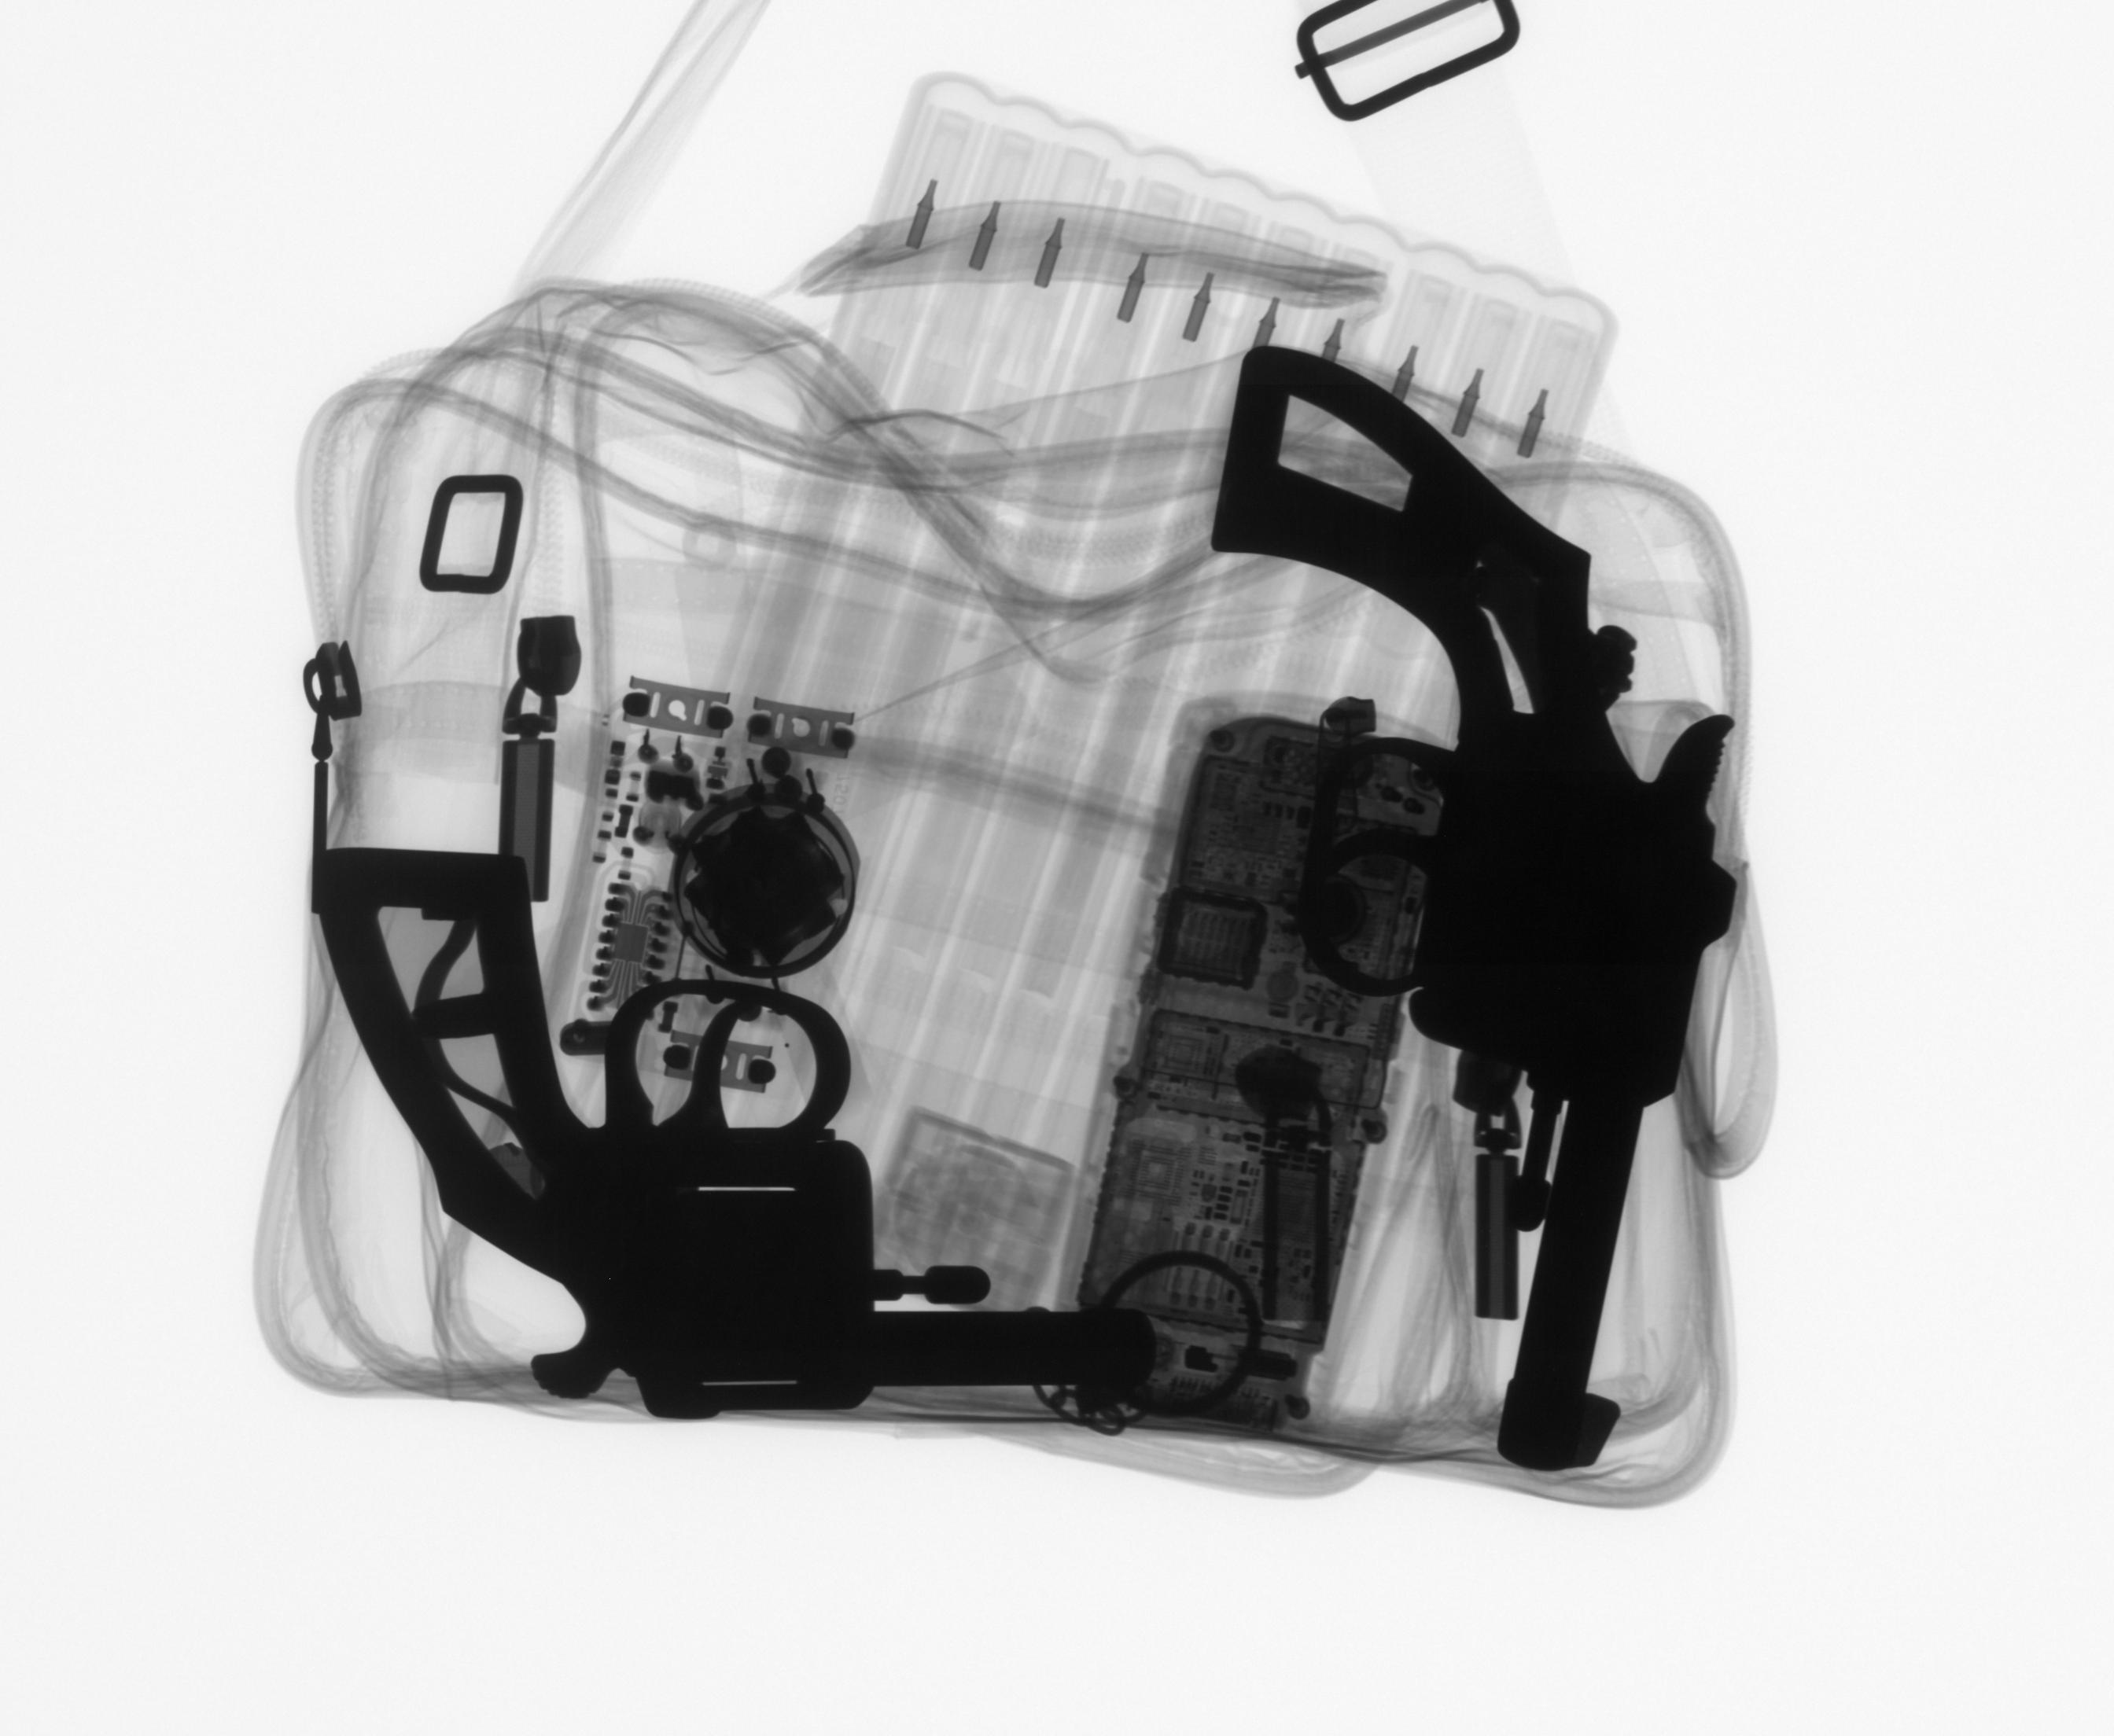Handgun: (1197, 332, 1766, 1510), (304, 827, 1178, 1480)
